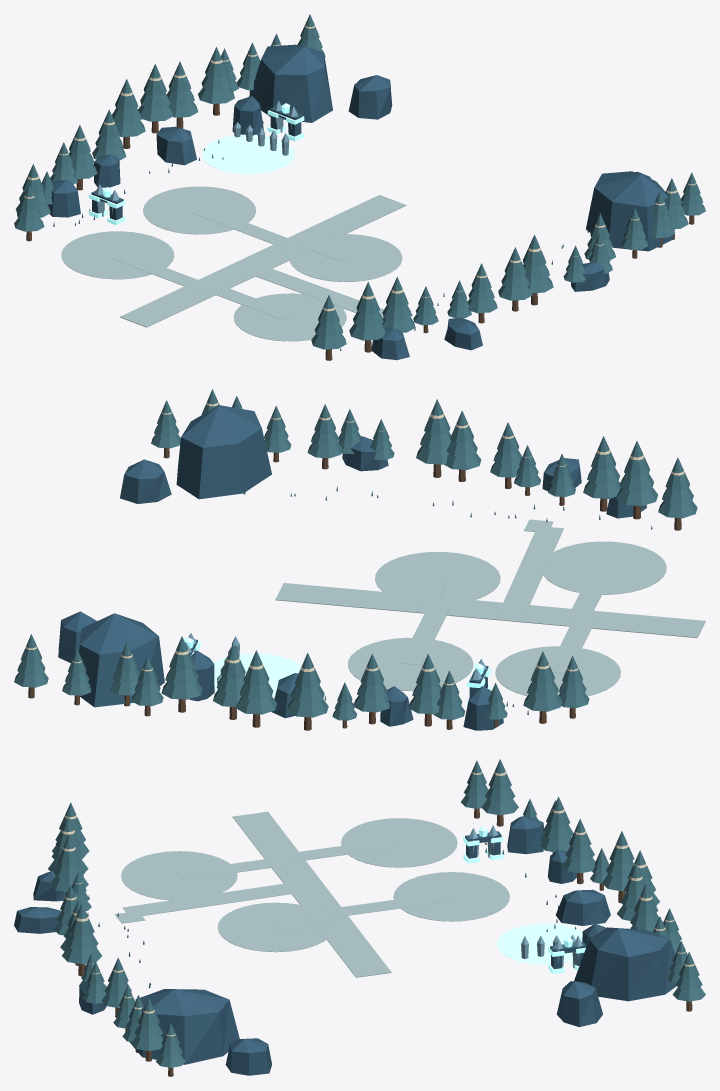
The model's file is Grounds_FrostboundGlacier.glb.
3 views of the same model, one above another, from view 1: azimuth 30°, elevation 25°; view 2: azimuth 150°, elevation 25°; view 3: azimuth 270°, elevation 25° (orthographic). The views are drawn at different scales.
Parts seen in each view (by area): view 1: Grounds_FrostboundGlacier_FrostboundGlacier_path_3_0, Grounds_FrostboundGlacier_FrostboundGlacier_path_3_1, Grounds_FrostboundGlacier_FrostboundGlacier_dark_4_2, Grounds_FrostboundGlacier_FrostboundGlacier_leaf_3_2, Grounds_FrostboundGlacier_FrostboundGlacier_leaf_4_0, Grounds_FrostboundGlacier_FrostboundGlacier_leaf_3_0, Grounds_FrostboundGlacier_FrostboundGlacier_dark_5_0, Grounds_FrostboundGlacier_FrostboundGlacier_path_2_1, Grounds_FrostboundGlacier_FrostboundGlacier_leaf_4_2, Grounds_FrostboundGlacier_FrostboundGlacier_accent_3_2, Grounds_FrostboundGlacier_FrostboundGlacier_path_4_1, Grounds_FrostboundGlacier_FrostboundGlacier_dark_3_2 (+8 smaller); view 2: Grounds_FrostboundGlacier_FrostboundGlacier_path_3_0, Grounds_FrostboundGlacier_FrostboundGlacier_path_3_1, Grounds_FrostboundGlacier_FrostboundGlacier_dark_5_0, Grounds_FrostboundGlacier_FrostboundGlacier_leaf_3_2, Grounds_FrostboundGlacier_FrostboundGlacier_leaf_4_0, Grounds_FrostboundGlacier_FrostboundGlacier_dark_4_2, Grounds_FrostboundGlacier_FrostboundGlacier_leaf_3_0, Grounds_FrostboundGlacier_FrostboundGlacier_leaf_4_2, Grounds_FrostboundGlacier_FrostboundGlacier_path_2_1, Grounds_FrostboundGlacier_FrostboundGlacier_path_4_1, Grounds_FrostboundGlacier_FrostboundGlacier_leaf_2_1, Grounds_FrostboundGlacier_FrostboundGlacier_path_2_0 (+7 smaller); view 3: Grounds_FrostboundGlacier_FrostboundGlacier_path_3_0, Grounds_FrostboundGlacier_FrostboundGlacier_path_3_1, Grounds_FrostboundGlacier_FrostboundGlacier_dark_4_2, Grounds_FrostboundGlacier_FrostboundGlacier_dark_5_0, Grounds_FrostboundGlacier_FrostboundGlacier_leaf_3_2, Grounds_FrostboundGlacier_FrostboundGlacier_leaf_4_0, Grounds_FrostboundGlacier_FrostboundGlacier_path_2_1, Grounds_FrostboundGlacier_FrostboundGlacier_leaf_4_2, Grounds_FrostboundGlacier_FrostboundGlacier_leaf_3_0, Grounds_FrostboundGlacier_FrostboundGlacier_dark_3_2, Grounds_FrostboundGlacier_FrostboundGlacier_leaf_5_0, Grounds_FrostboundGlacier_FrostboundGlacier_path_4_1 (+7 smaller).
Boxes of the visible parts, x1,y1,x2,y2 form: Grounds_FrostboundGlacier_FrostboundGlacier_path_3_0: (202,234,412,341); Grounds_FrostboundGlacier_FrostboundGlacier_path_3_1: (111,186,352,291); Grounds_FrostboundGlacier_FrostboundGlacier_dark_4_2: (232,44,392,136); Grounds_FrostboundGlacier_FrostboundGlacier_leaf_3_2: (50,61,223,193); Grounds_FrostboundGlacier_FrostboundGlacier_leaf_4_0: (467,208,648,313); Grounds_FrostboundGlacier_FrostboundGlacier_leaf_3_0: (311,276,471,350); Grounds_FrostboundGlacier_FrostboundGlacier_dark_5_0: (586,171,673,251); Grounds_FrostboundGlacier_FrostboundGlacier_path_2_1: (61,231,174,279); Grounds_FrostboundGlacier_FrostboundGlacier_leaf_4_2: (198,14,325,123); Grounds_FrostboundGlacier_FrostboundGlacier_accent_3_2: (202,134,294,173); Grounds_FrostboundGlacier_FrostboundGlacier_path_4_1: (292,195,406,243); Grounds_FrostboundGlacier_FrostboundGlacier_dark_3_2: (93,126,196,187); Grounds_FrostboundGlacier_FrostboundGlacier_path_3_0: (375,519,666,618); Grounds_FrostboundGlacier_FrostboundGlacier_path_3_1: (348,577,595,691); Grounds_FrostboundGlacier_FrostboundGlacier_dark_5_0: (120,405,271,503); Grounds_FrostboundGlacier_FrostboundGlacier_leaf_3_2: (213,644,465,720); Grounds_FrostboundGlacier_FrostboundGlacier_leaf_4_0: (243,399,522,506); Grounds_FrostboundGlacier_FrostboundGlacier_dark_4_2: (58,611,214,707); Grounds_FrostboundGlacier_FrostboundGlacier_leaf_3_0: (470,436,697,529); Grounds_FrostboundGlacier_FrostboundGlacier_leaf_4_2: (14,634,202,706); Grounds_FrostboundGlacier_FrostboundGlacier_path_2_1: (495,646,620,696); Grounds_FrostboundGlacier_FrostboundGlacier_path_4_1: (275,583,422,612); Grounds_FrostboundGlacier_FrostboundGlacier_leaf_2_1: (506,651,589,714); Grounds_FrostboundGlacier_FrostboundGlacier_path_2_0: (563,611,705,637); Grounds_FrostboundGlacier_FrostboundGlacier_path_3_0: (114,851,326,952); Grounds_FrostboundGlacier_FrostboundGlacier_path_3_1: (272,838,509,931); Grounds_FrostboundGlacier_FrostboundGlacier_dark_4_2: (550,923,676,1027); Grounds_FrostboundGlacier_FrostboundGlacier_dark_5_0: (130,989,271,1075); Grounds_FrostboundGlacier_FrostboundGlacier_leaf_3_2: (525,796,659,931); Grounds_FrostboundGlacier_FrostboundGlacier_leaf_4_0: (53,885,150,1028); Grounds_FrostboundGlacier_FrostboundGlacier_path_2_1: (341,818,457,867); Grounds_FrostboundGlacier_FrostboundGlacier_leaf_4_2: (630,883,705,1001); Grounds_FrostboundGlacier_FrostboundGlacier_leaf_3_0: (48,802,144,944); Grounds_FrostboundGlacier_FrostboundGlacier_dark_3_2: (547,850,610,925); Grounds_FrostboundGlacier_FrostboundGlacier_leaf_5_0: (122,995,185,1067); Grounds_FrostboundGlacier_FrostboundGlacier_path_4_1: (317,918,391,977).
Size of the model in its own units: 308 by 43.53 by 332.
